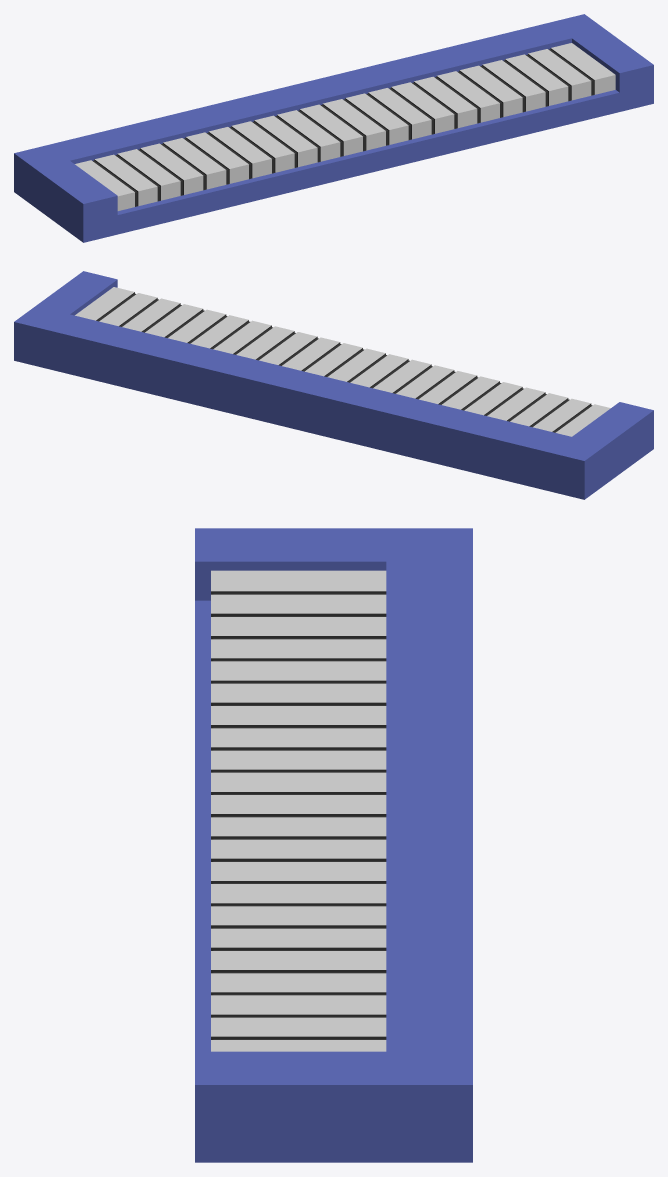
File: Keyboard.fbx
3 views of the same model, one above another, from view 1: azimuth 30°, elevation 25°; view 2: azimuth 150°, elevation 25°; view 3: azimuth 270°, elevation 25° (orthographic). The views are drawn at different scales.
Visible parts, largest first — view 1: Keyboard; view 2: Keyboard; view 3: Keyboard.
Boxes of the visible parts, x1,y1,x2,y2 form: Keyboard: (14,14,653,242); Keyboard: (14,271,653,499); Keyboard: (195,528,472,1162).
Bounding box in the file's own units: 62.86 × 4.09 × 13.26.
Materials: 1 (1 with a texture image).
